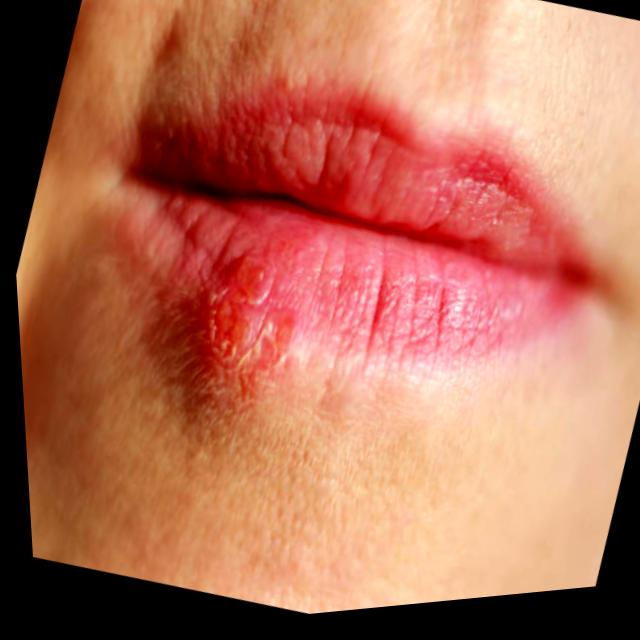ulcer: (168, 194, 574, 375)
